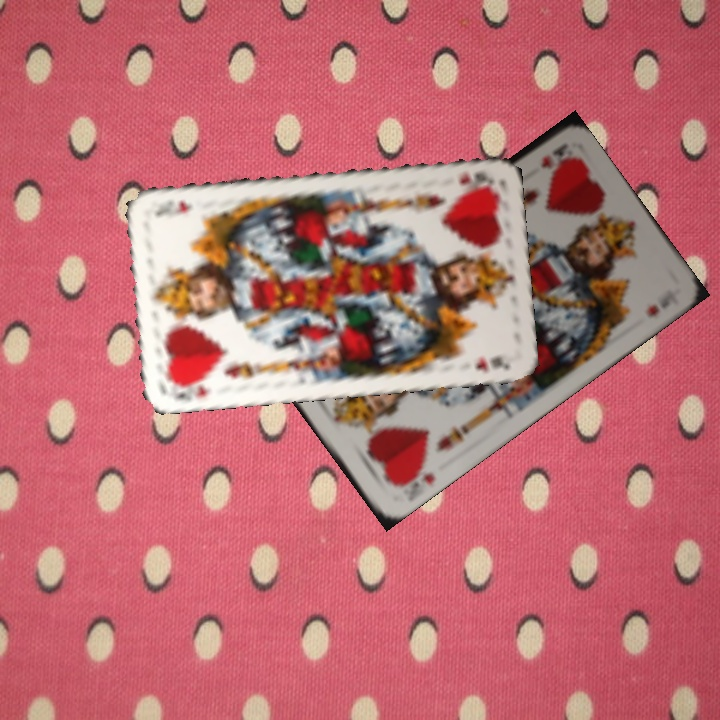HK: (390, 461, 438, 494), (164, 375, 214, 404), (536, 140, 570, 171), (456, 168, 491, 191)
